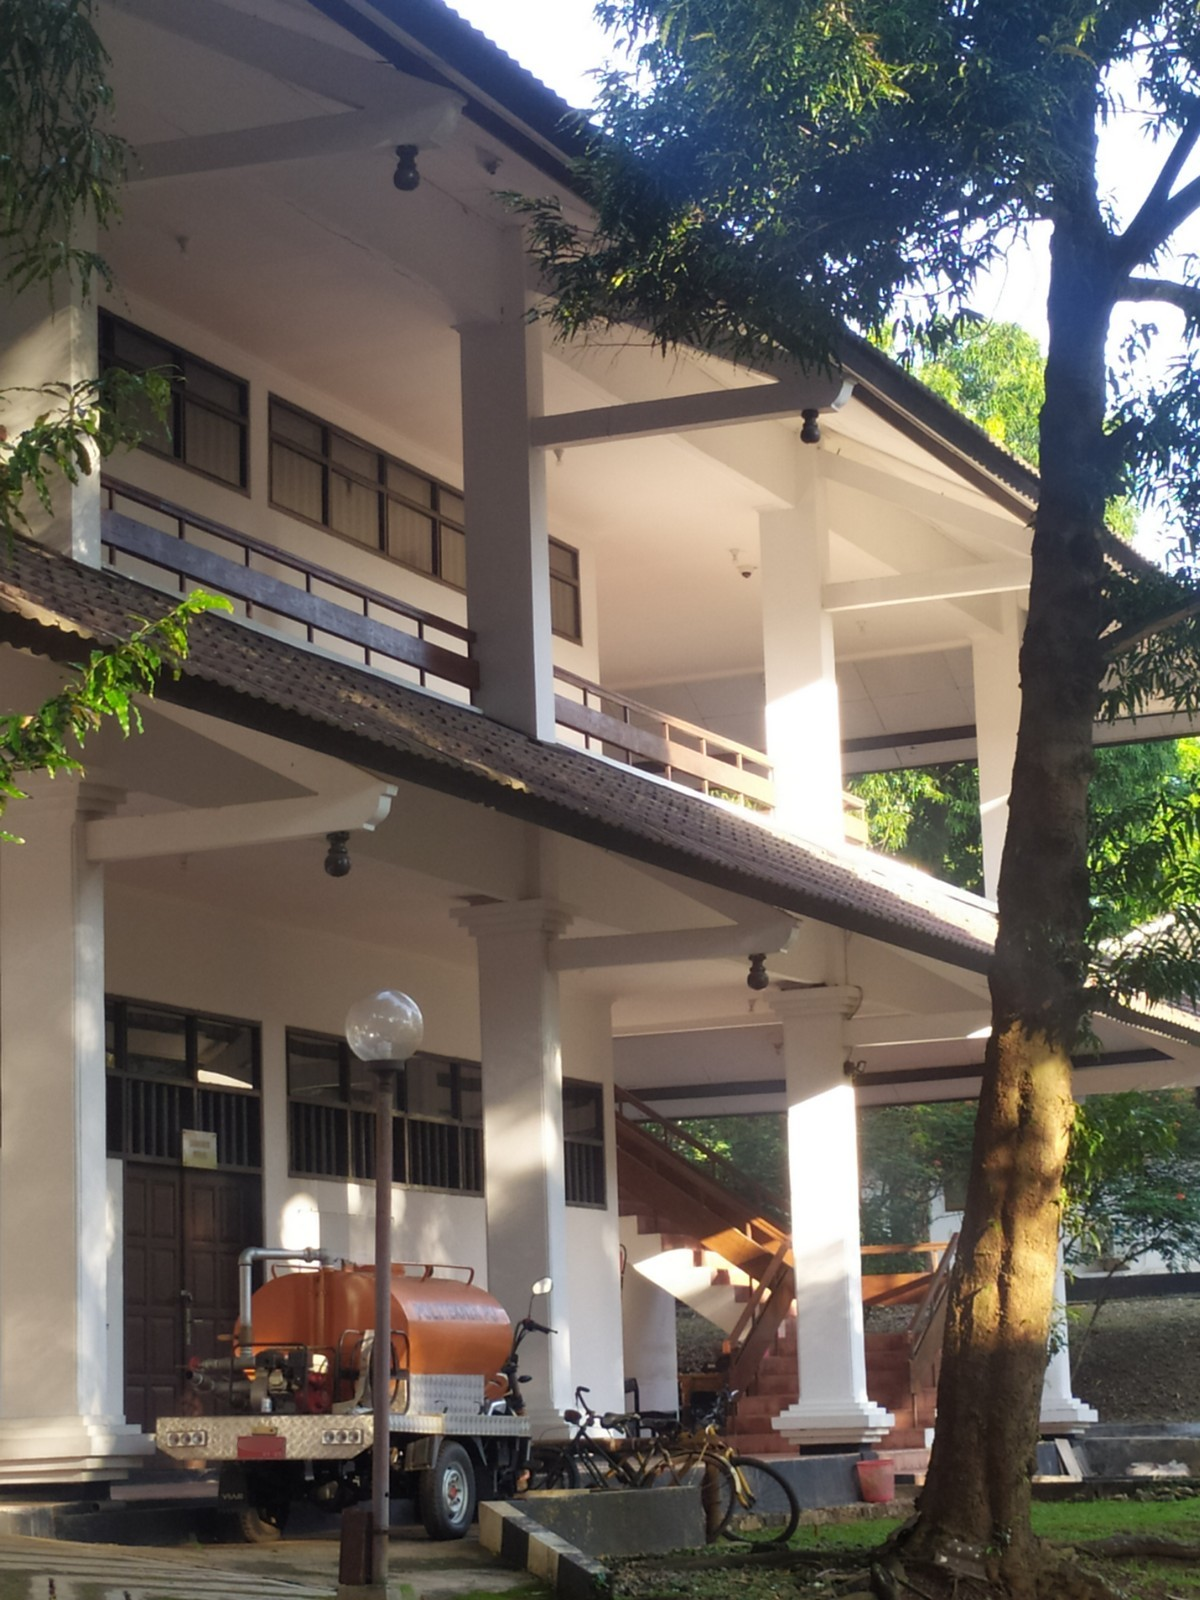concrete beam: (73, 787, 315, 872), (513, 382, 789, 454), (529, 923, 751, 976)
concrete column: (471, 903, 584, 1424), (449, 307, 568, 741), (746, 503, 860, 862), (780, 1022, 877, 1409)
